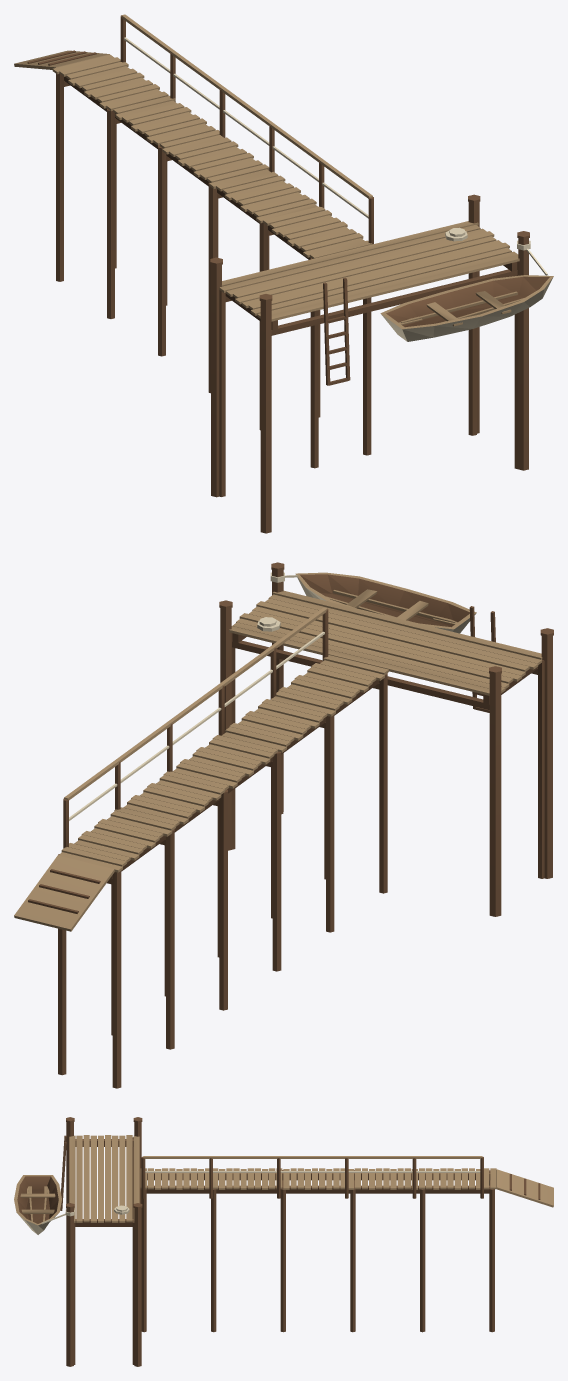
The model's file is pier_2.glb.
3 views of the same model, one above another, from view 1: azimuth 30°, elevation 25°; view 2: azimuth 150°, elevation 25°; view 3: azimuth 270°, elevation 25° (orthographic). The views are drawn at different scales.
Parts seen in each view (by area): view 1: pier_2; view 2: pier_2; view 3: pier_2.
Boxes of the visible parts, x1,y1,x2,y2 form: pier_2: (14, 14, 553, 533); pier_2: (14, 562, 553, 1088); pier_2: (14, 1117, 553, 1366).
Size of the model in its own units: 5.99 by 5.43 by 15.14.
